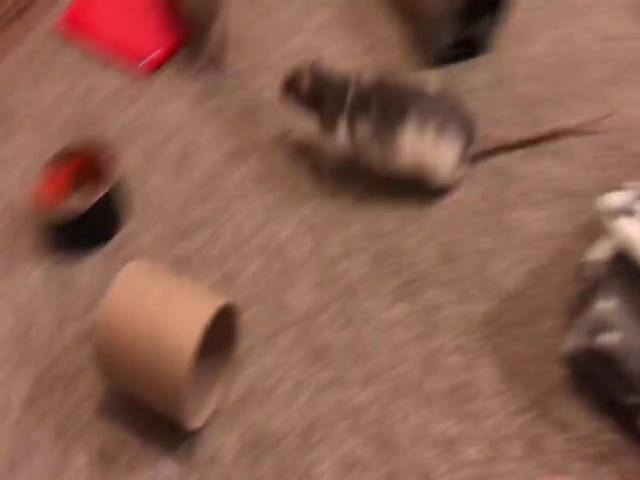Tikus: (278, 52, 480, 195)
